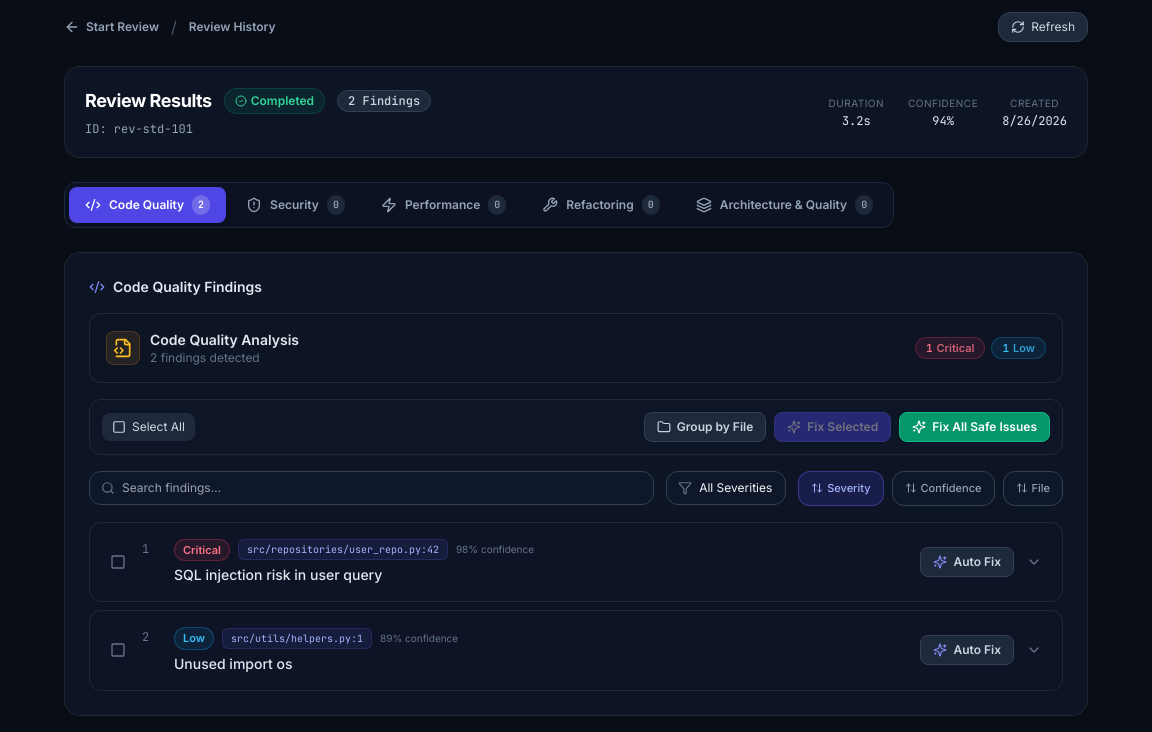
Scenario: Localized Error Standardization & Safe Rendering › renders XSS payloads in error messages safely as plain text
Check: the text "SQL injection risk in user query" is shown, box [174,566,382,583]
Click the 1st button "Auto Fix": (967, 562) [920,547,1014,577]
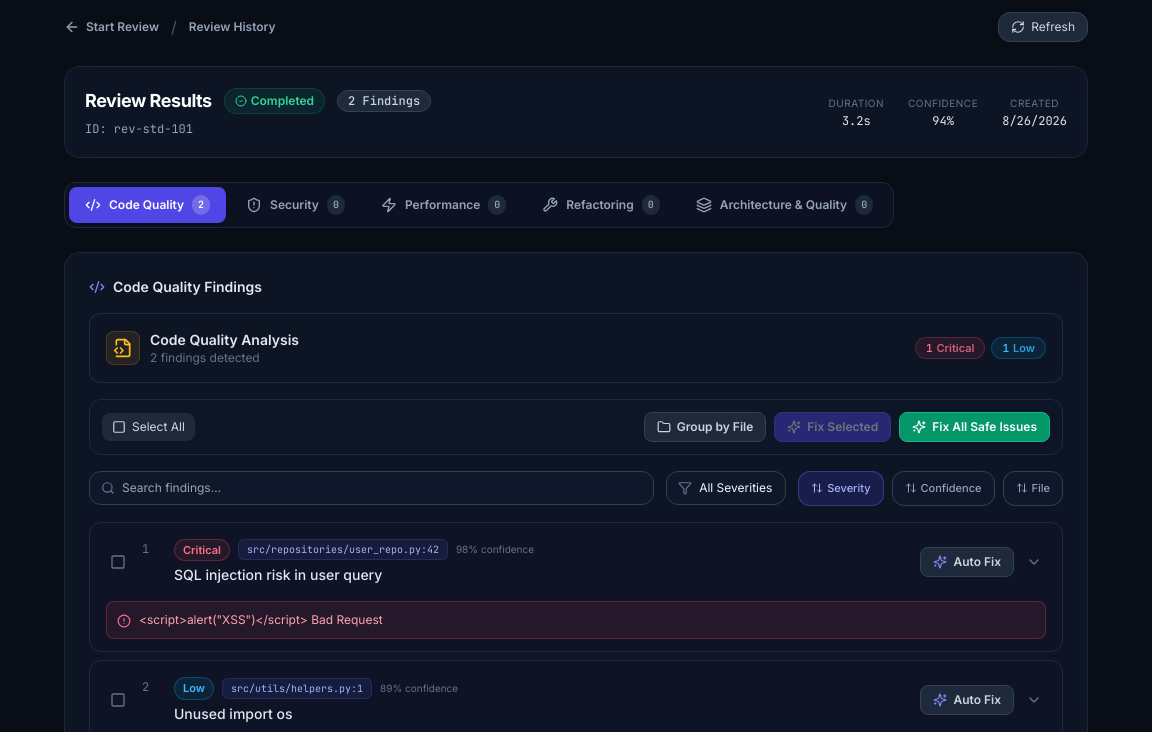
Check: the text "<script>alert(\"XSS\")</script> Bad Request" is shown, box [139,612,383,628]
